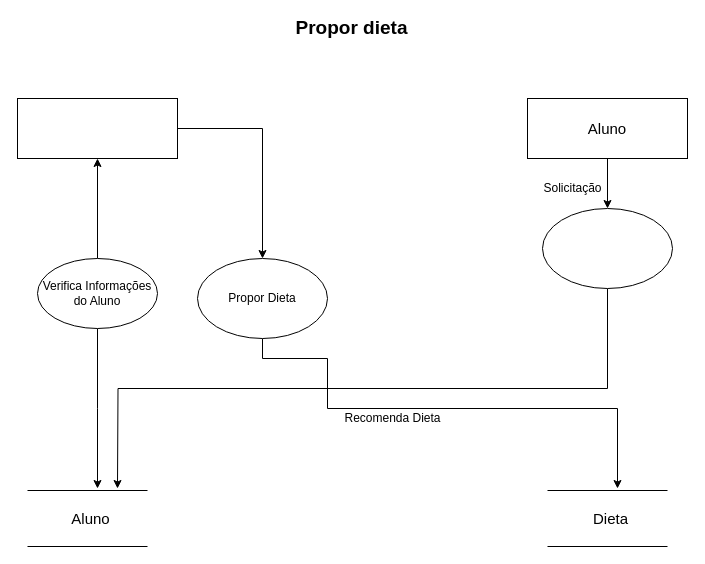
The diagram is 705 pixels wide and 564 high, and some of its shapes have lost their labels. Here are the shapes that lost their labels. From the top down, the centre of each, then its label:
At (x=97, y=128): "Nutricionista".
At (x=607, y=248): "Elaborar dieta".
